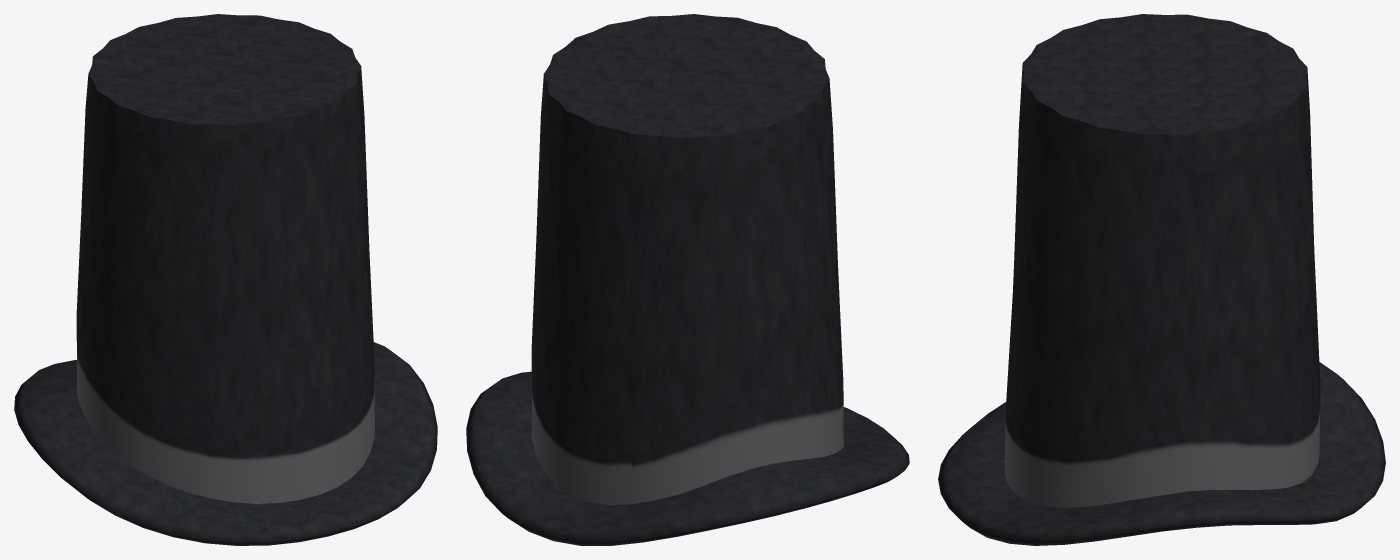
File: GG_Character_TopHatAccess.fbx
3 views of the same model, side by side, from view 1: azimuth 30°, elevation 25°; view 2: azimuth 150°, elevation 25°; view 3: azimuth 270°, elevation 25° (orthographic). The views are drawn at different scales.
Parts seen in each view (by area): view 1: TopHat1; view 2: TopHat1; view 3: TopHat1.
Part boxes in pixels (x1,y1,x2,y2): TopHat1: (14,14,437,545); TopHat1: (466,14,909,545); TopHat1: (938,14,1385,545).
Bounding box in the file's own units: 1.47 × 1.51 × 1.47.
